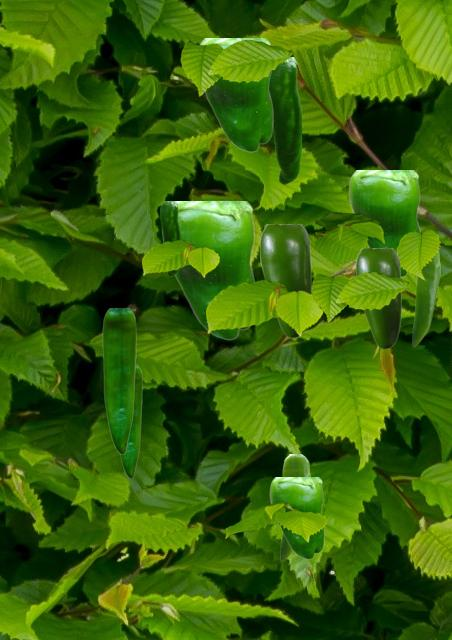green_chili: (161, 201, 255, 339), (200, 38, 272, 151), (348, 170, 420, 276), (260, 224, 310, 337), (102, 308, 135, 453), (356, 248, 400, 348), (269, 477, 323, 558), (270, 57, 300, 183), (280, 454, 309, 560), (412, 251, 439, 345), (119, 364, 141, 477), (160, 201, 179, 275)
